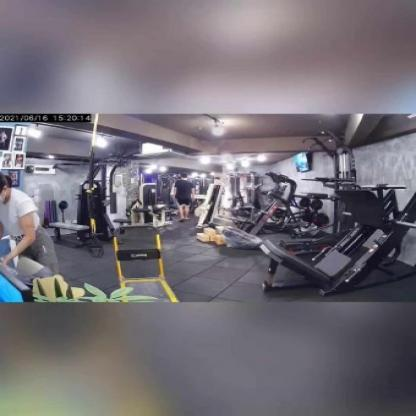leg press: (227, 163, 416, 337)
